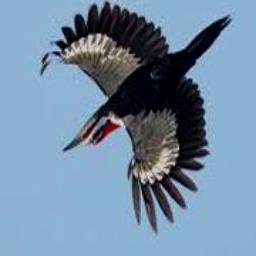Woodpecker: (40, 3, 232, 236)
